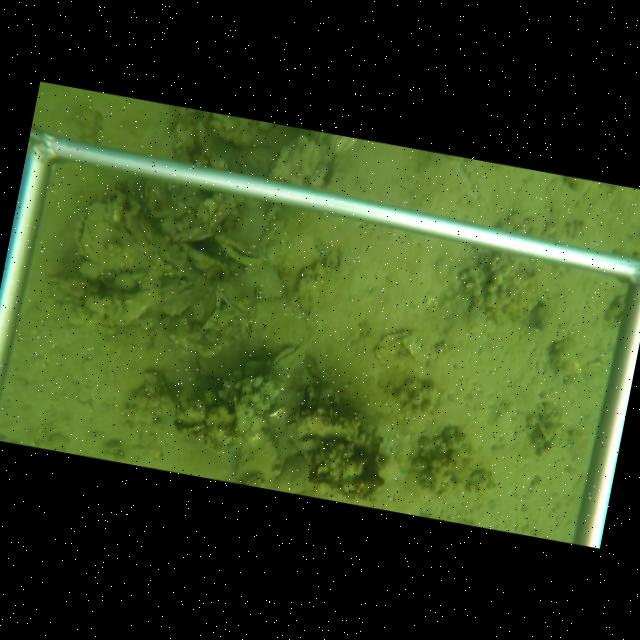Oyster-Closed: (70, 193, 172, 273), (213, 278, 260, 322), (268, 344, 308, 384), (192, 285, 224, 330)
Oyster-Indeterminate: (232, 426, 285, 488), (264, 133, 325, 183)
Oyster-Open: (213, 231, 273, 269)
